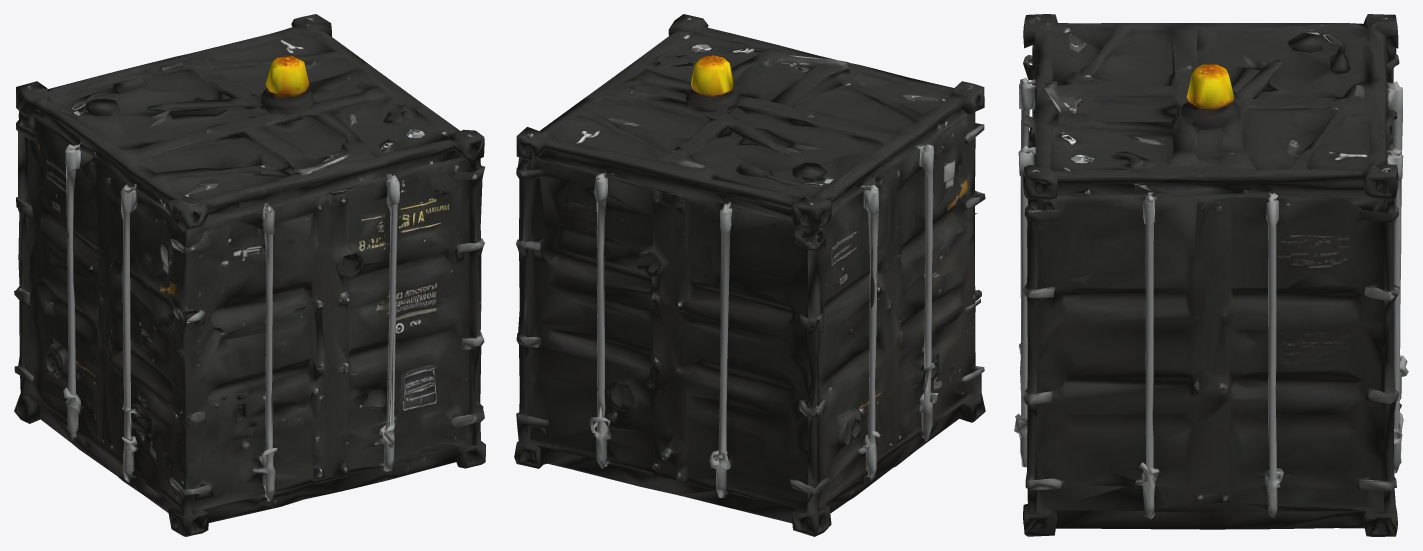
File: cargo_container_small.glb
The picture shows the model from 3 angles, left to right: view 1: azimuth 30°, elevation 25°; view 2: azimuth 150°, elevation 25°; view 3: azimuth 270°, elevation 25°; orthographic projection. The views are drawn at different scales.
Parts seen in each view (by area): view 1: tripo_node_e8f90766-f7a3-457b-94b1-81611de6b1d9; view 2: tripo_node_e8f90766-f7a3-457b-94b1-81611de6b1d9; view 3: tripo_node_e8f90766-f7a3-457b-94b1-81611de6b1d9.
Boxes of the visible parts, box(x1,y1,x2,y2) form: tripo_node_e8f90766-f7a3-457b-94b1-81611de6b1d9: box(14, 14, 485, 536); tripo_node_e8f90766-f7a3-457b-94b1-81611de6b1d9: box(514, 14, 985, 536); tripo_node_e8f90766-f7a3-457b-94b1-81611de6b1d9: box(1014, 14, 1408, 536).
Bounding box in the file's own units: 0.8893 × 0.9995 × 0.8692.
Materials: 1 (1 with a texture image).
